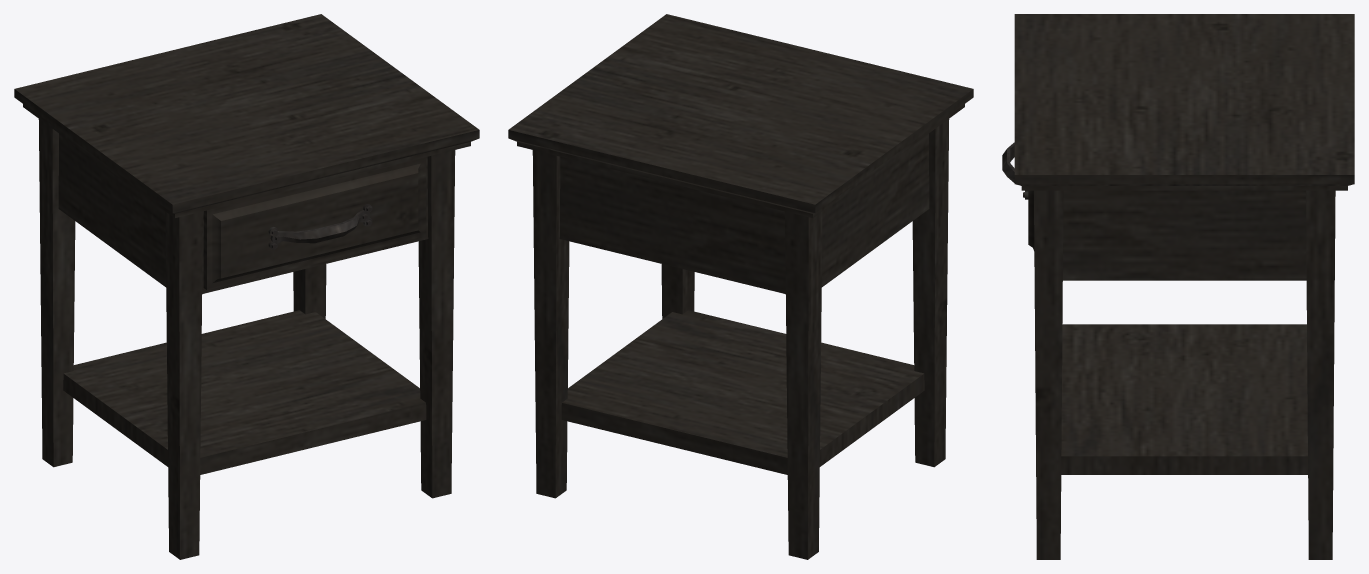
File: bedside_table_1.obj
3 views of the same model, side by side, from view 1: azimuth 30°, elevation 25°; view 2: azimuth 150°, elevation 25°; view 3: azimuth 270°, elevation 25° (orthographic). The views are drawn at different scales.
Visible parts, largest first — view 1: bedside_table_1, bedside_table_1_drawer; view 2: bedside_table_1; view 3: bedside_table_1, bedside_table_1_drawer.
Boxes of the visible parts, bbox=[...] form: bedside_table_1: bbox=[14, 14, 479, 559]; bedside_table_1_drawer: bbox=[203, 157, 426, 290]; bedside_table_1: bbox=[508, 14, 973, 559]; bedside_table_1: bbox=[1014, 14, 1354, 559]; bedside_table_1_drawer: bbox=[1002, 142, 1034, 250].
Bounding box in the file's own units: 0.56 × 0.64 × 0.5183.
